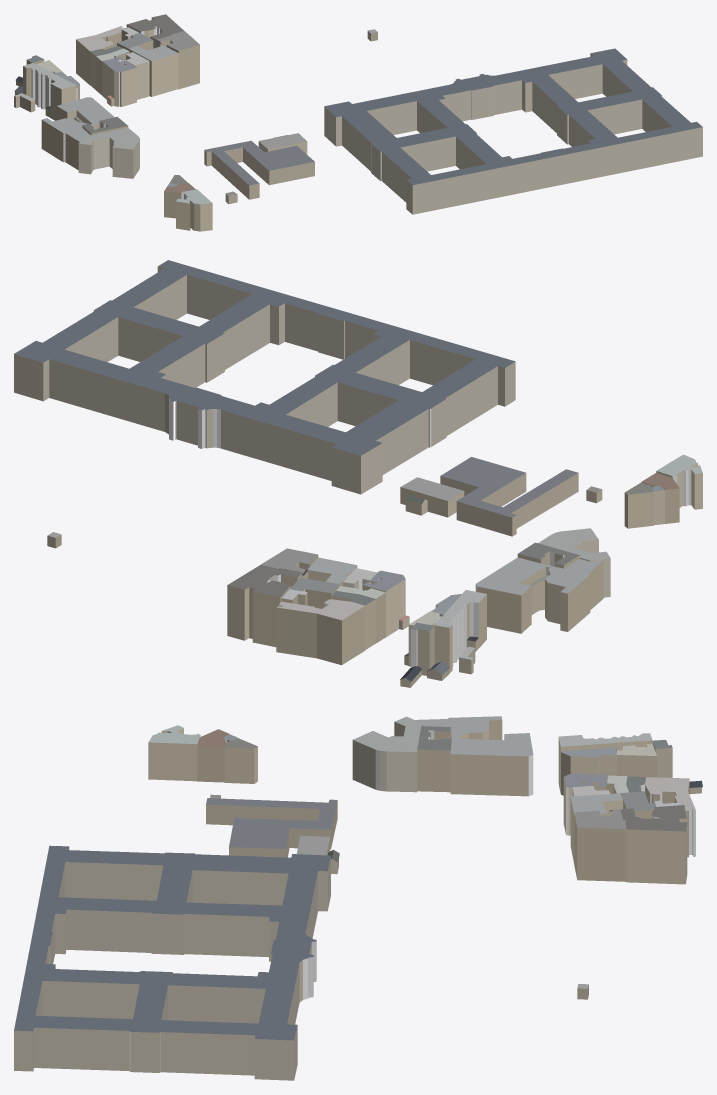
3 views of the same model, one above another, from view 1: azimuth 30°, elevation 25°; view 2: azimuth 150°, elevation 25°; view 3: azimuth 270°, elevation 25° (orthographic). The views are drawn at different scales.
Parts seen in each view (by area): view 1: tuile; view 2: tuile; view 3: tuile.
Boxes of the visible parts, <box> form: tuile: <box>14,14,702,231</box>; tuile: <box>14,260,702,687</box>; tuile: <box>14,716,702,1080</box>.
Bounding box in the file's own units: 360 × 27.18 × 316.
